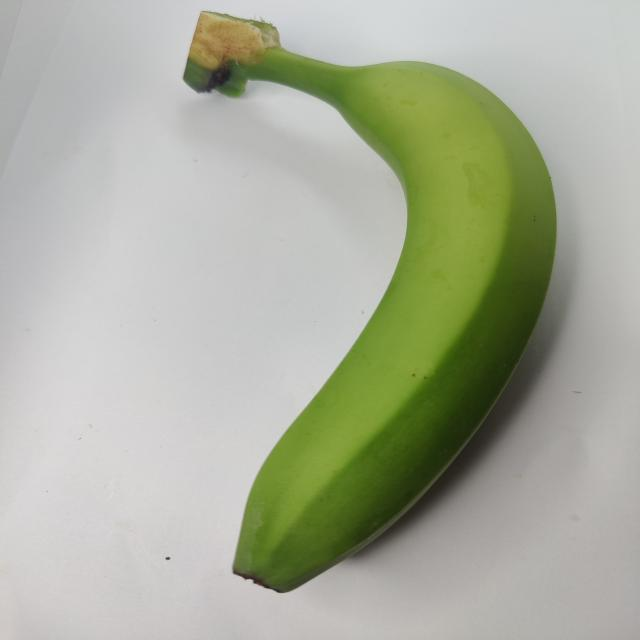Raw: (91, 0, 569, 612)
